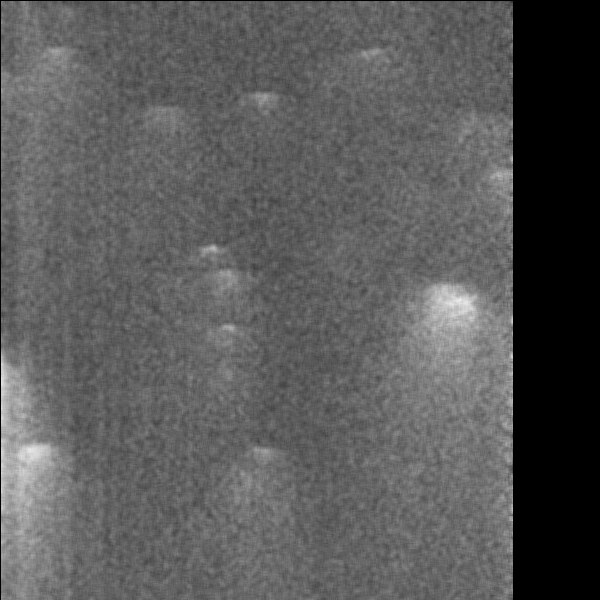spark: (410, 277, 496, 431), (4, 439, 64, 537), (134, 95, 213, 139), (31, 42, 84, 92), (201, 267, 242, 311), (238, 88, 285, 125), (234, 441, 282, 471), (349, 41, 396, 67), (488, 163, 512, 205), (205, 320, 247, 339), (197, 240, 222, 263)
